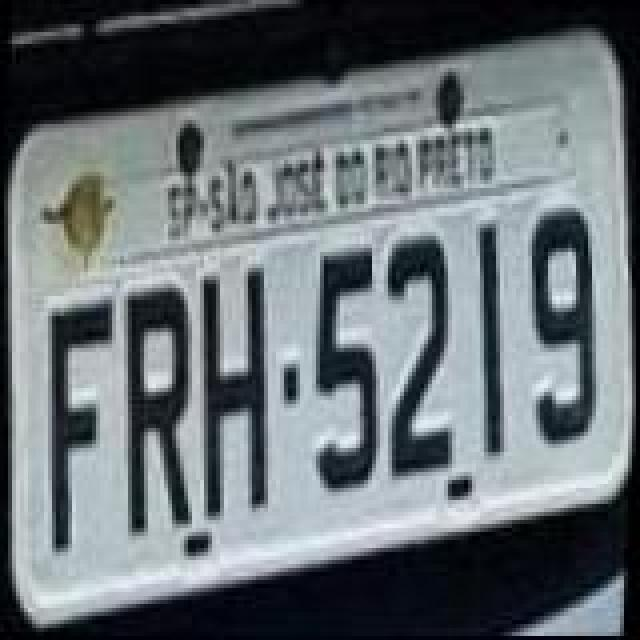1: (466, 222, 518, 458)
2: (374, 234, 462, 482)
5: (304, 240, 388, 496)
9: (520, 202, 608, 446)
F: (36, 294, 116, 554)
H: (188, 260, 280, 524)
R: (114, 282, 206, 538)
